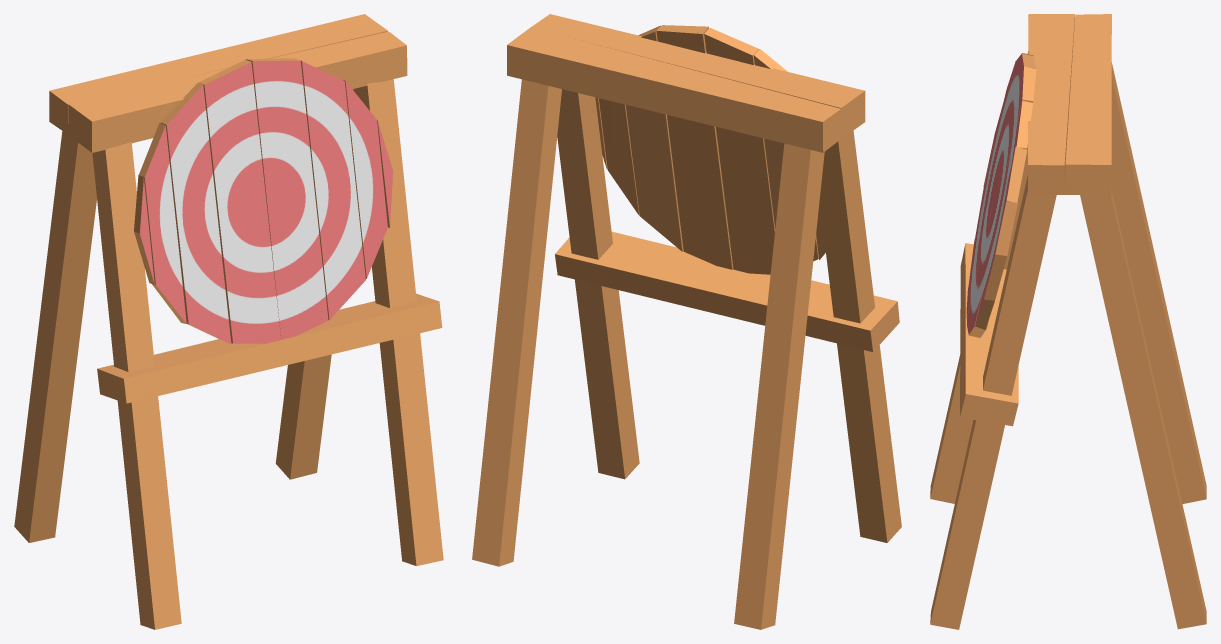
Rendered from archer_target.fbx.
3 views of the same model, side by side, from view 1: azimuth 30°, elevation 25°; view 2: azimuth 150°, elevation 25°; view 3: azimuth 270°, elevation 25° (orthographic). The views are drawn at different scales.
Visible parts, largest first — view 1: archer_target; view 2: archer_target; view 3: archer_target.
Boxes of the visible parts, left/top/right/bottom form: archer_target: left=14, top=14, right=443, bottom=629; archer_target: left=472, top=14, right=901, bottom=629; archer_target: left=930, top=14, right=1206, bottom=629.
Bounding box in the file's own units: 1.06 × 1.61 × 0.8157.
